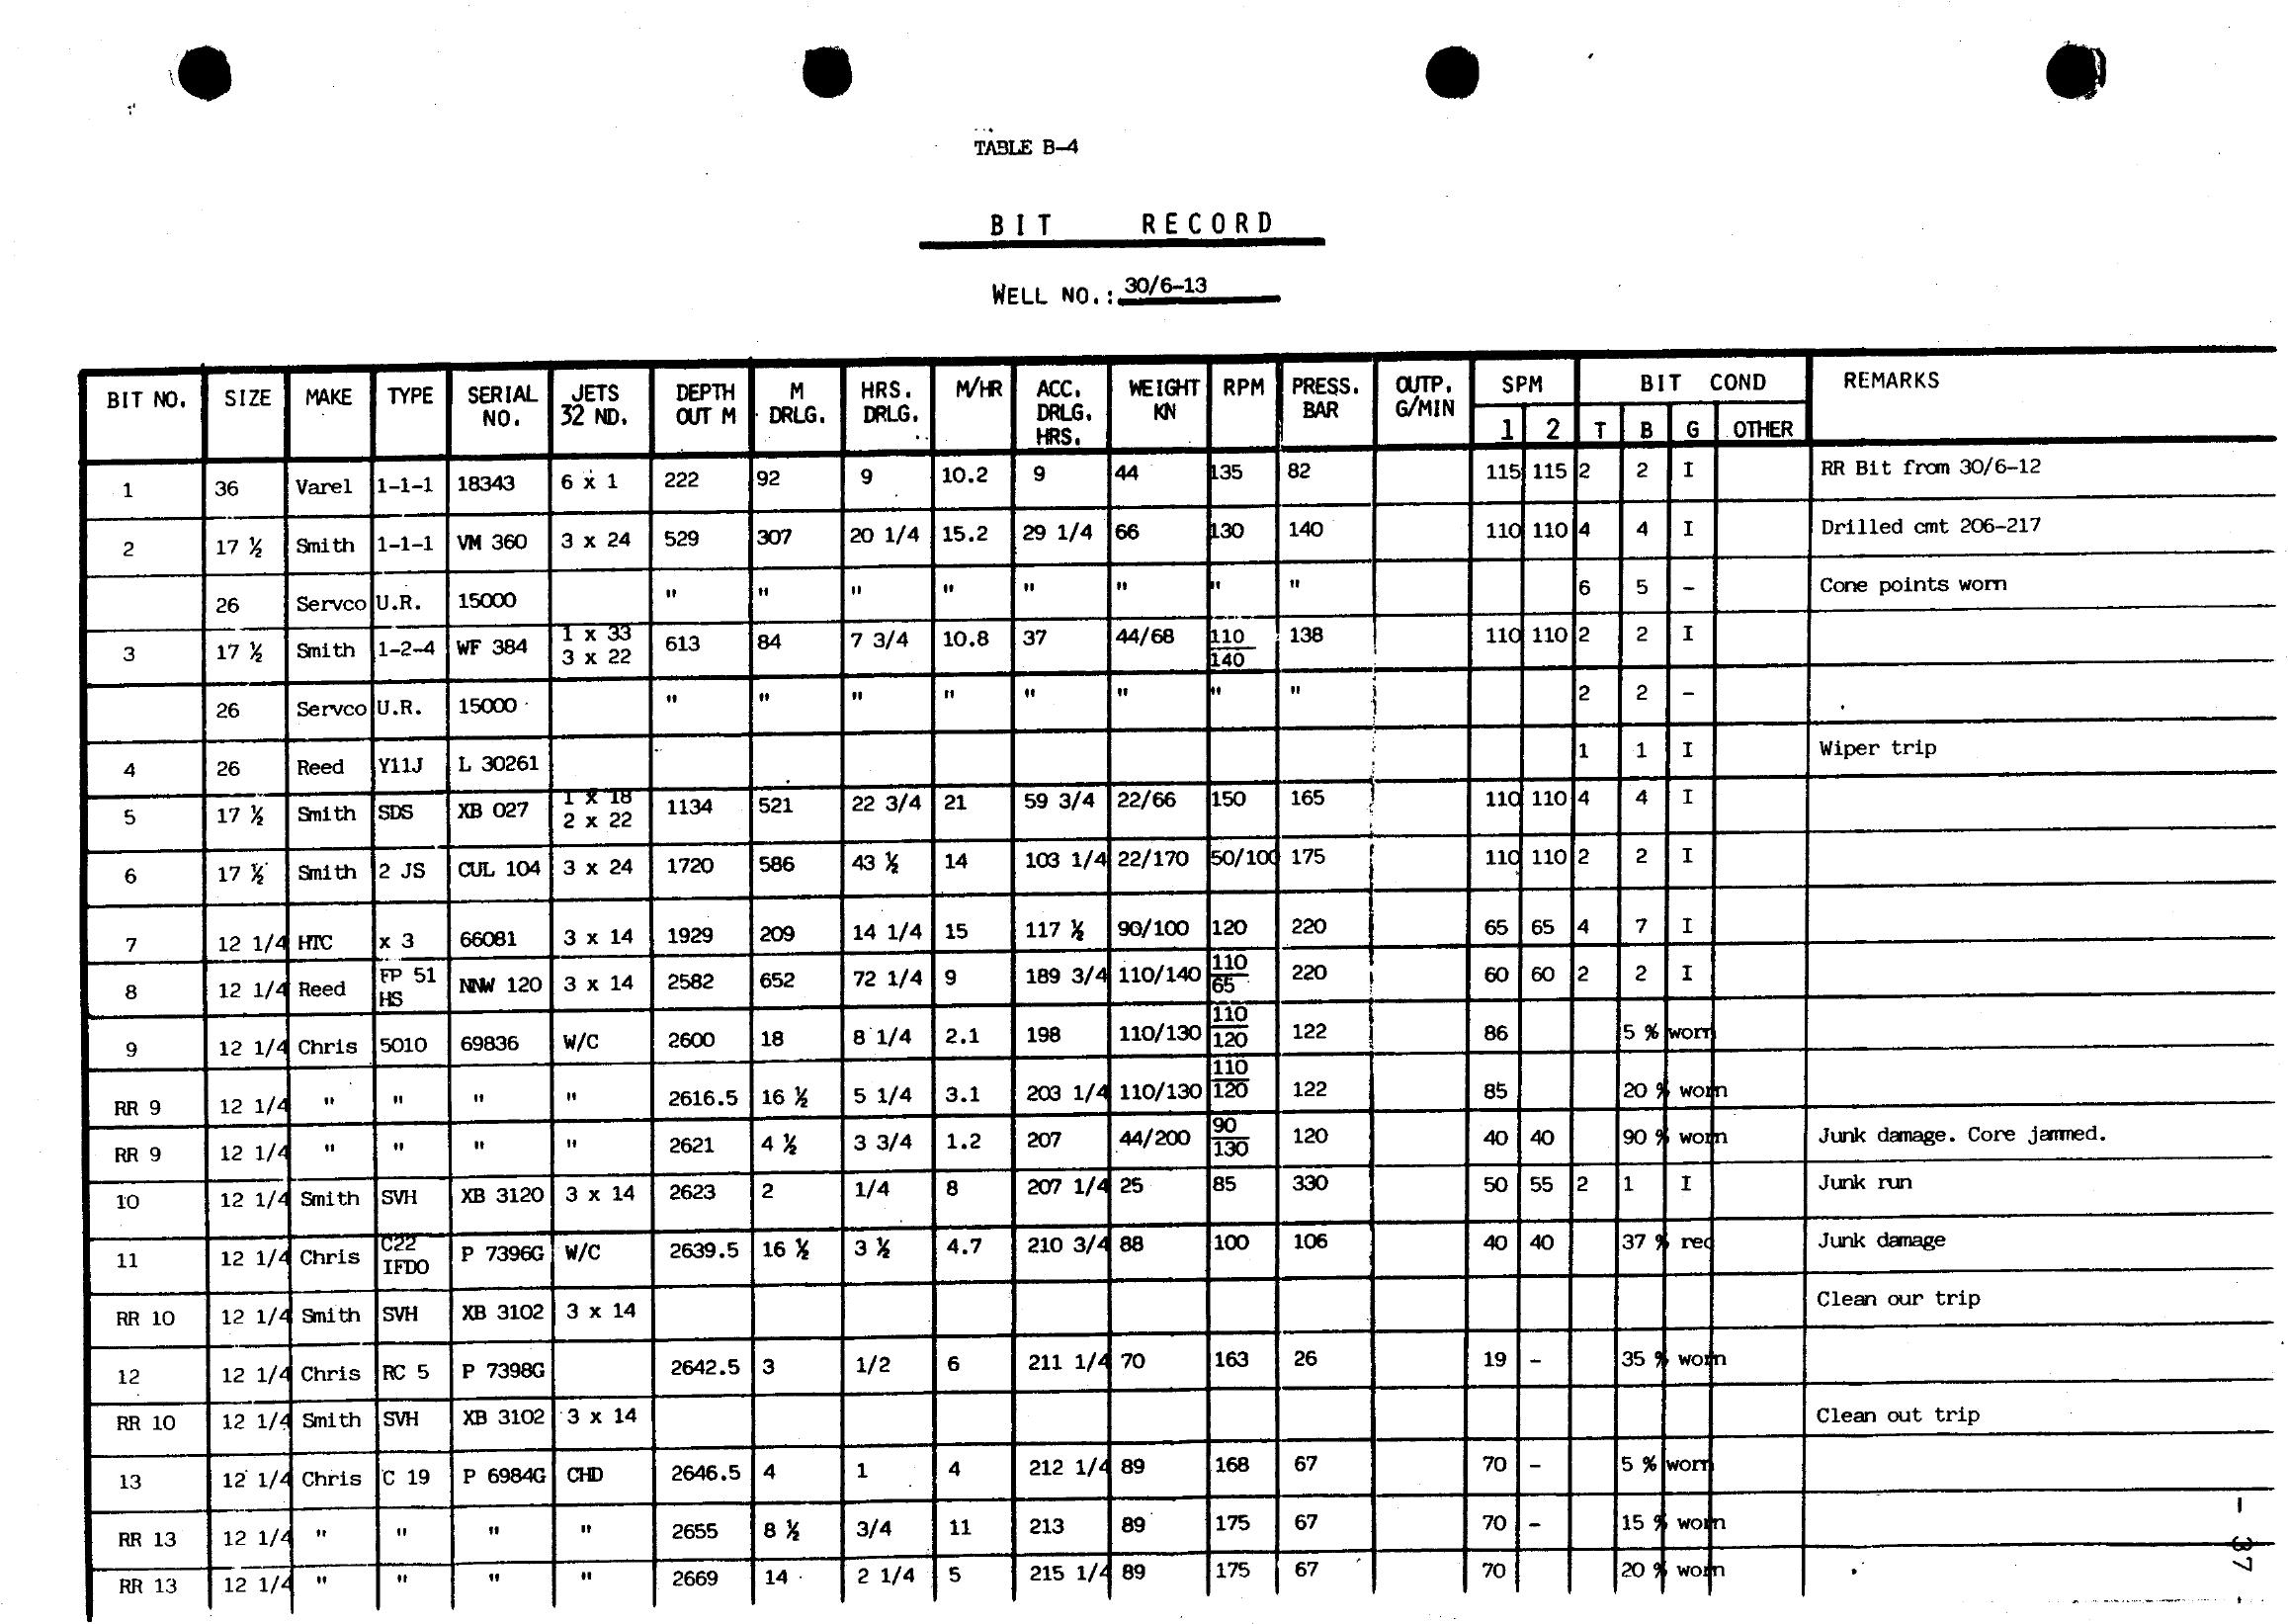table: (58, 339, 2205, 1624)
text: (958, 120, 1091, 172)
